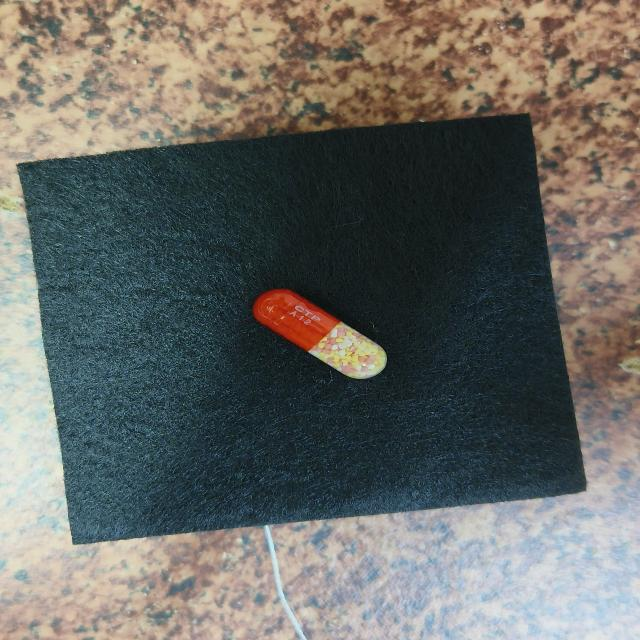Intact Capsule: (252, 289, 387, 379)
